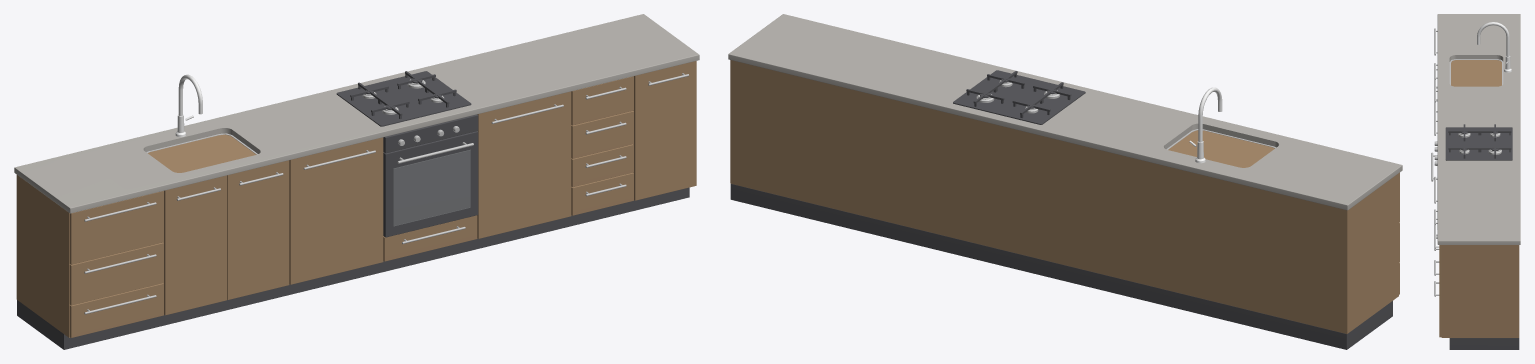
File: KitchenRun.fbx
3 renders of one model, left to right at view 1: azimuth 30°, elevation 25°; view 2: azimuth 150°, elevation 25°; view 3: azimuth 270°, elevation 25°, orthographic. The views are drawn at different scales.
Parts seen in each view (by area): view 1: KitchenRunMesh; view 2: KitchenRunMesh; view 3: KitchenRunMesh.
Part boxes in pixels (x1,y1,x2,y2): KitchenRunMesh: [14, 14, 699, 349]; KitchenRunMesh: [728, 14, 1402, 349]; KitchenRunMesh: [1431, 14, 1520, 349].
Bounding box in the file's own units: 4.02 × 1.31 × 0.668.
